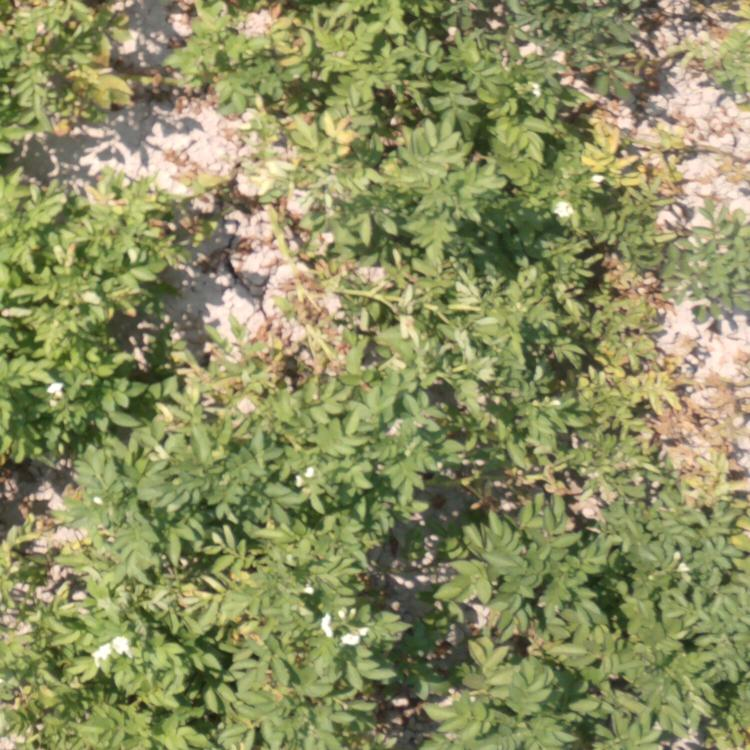healthy: (12, 387, 420, 750), (431, 495, 750, 742), (308, 177, 540, 381), (1, 189, 189, 387), (432, 388, 537, 490)
stressed: (141, 1, 750, 166), (553, 164, 744, 492), (1, 4, 125, 153), (213, 181, 301, 369)
